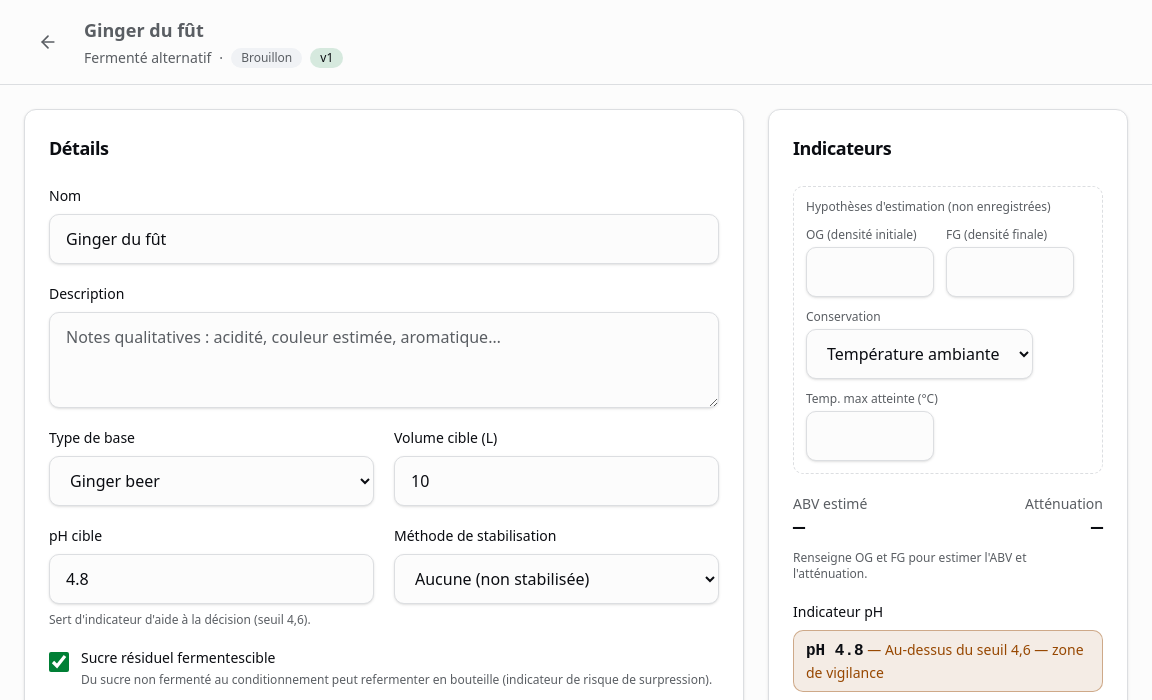
Test: éditeur ALT — estimation ABV › l'ABV estimé apparaît une fois OG et FG saisies
The image size is (1152, 700).
Expected: the text with test id "alt-abv" reads "—", [793,516,805,539]
Type "1.050" into the number field labelled "OG (densité initiale)".
click(870, 272); type("1.050")  # box [806,247,934,297]
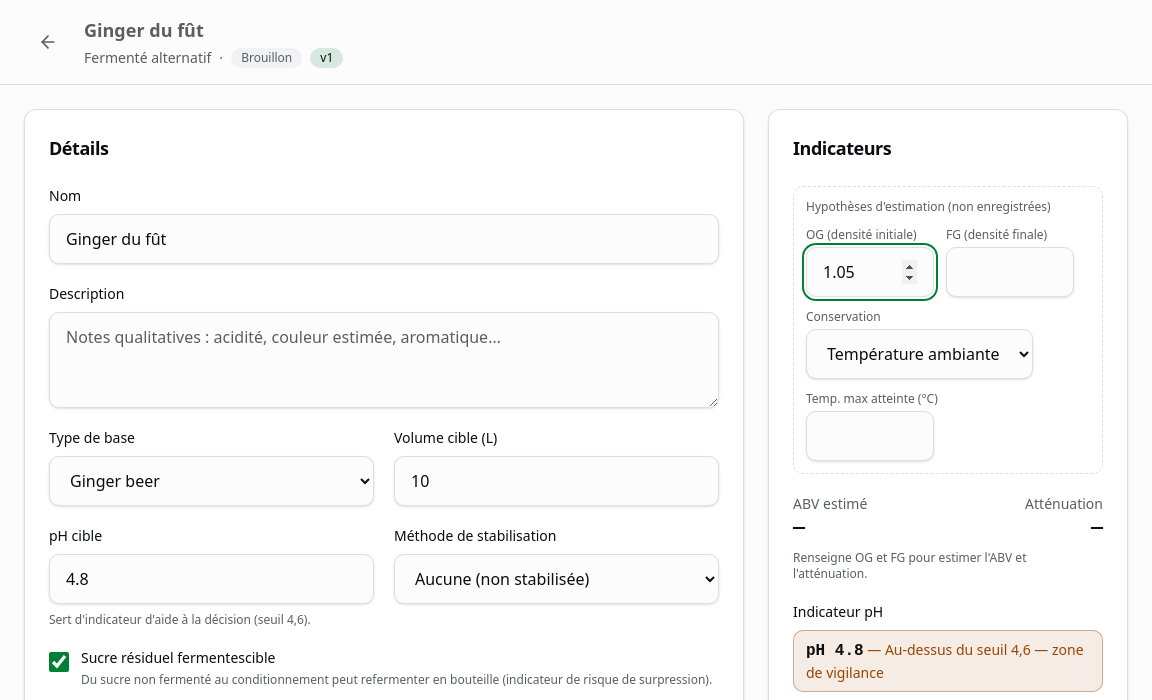
Type "1.010" into the number field labelled "FG (densité finale)".
click(1010, 272); type("1.010")  # box [946,247,1074,297]
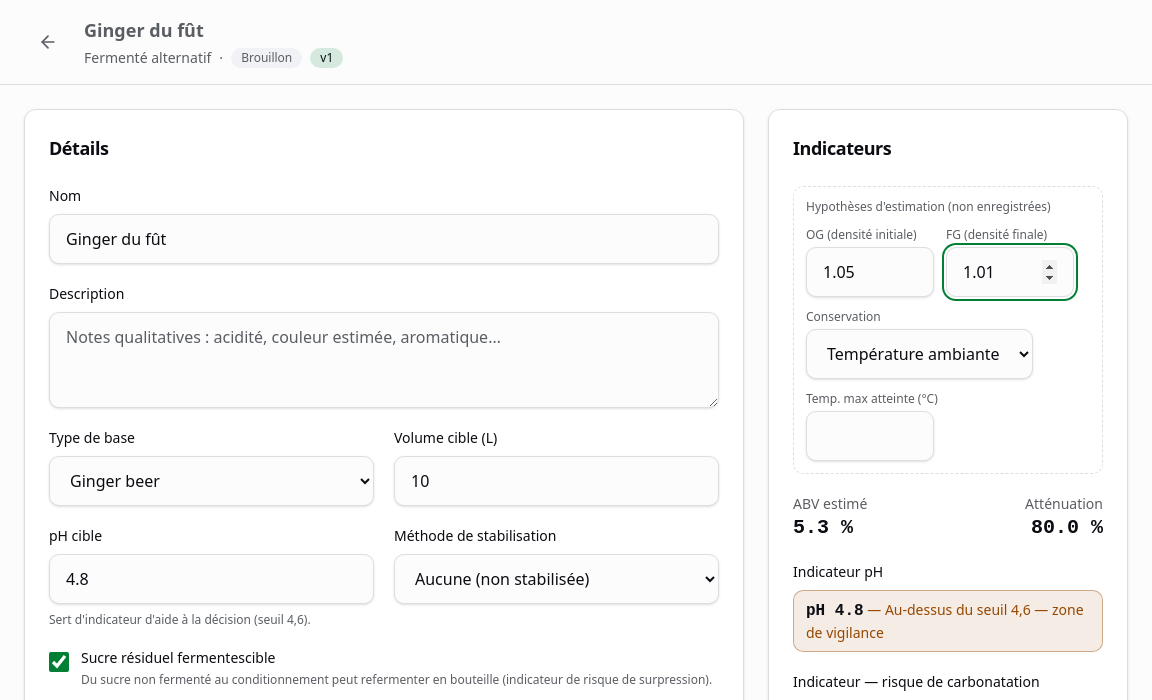
Expected: the text with test id "alt-abv" reads "5.3 %", [793,516,853,539]
